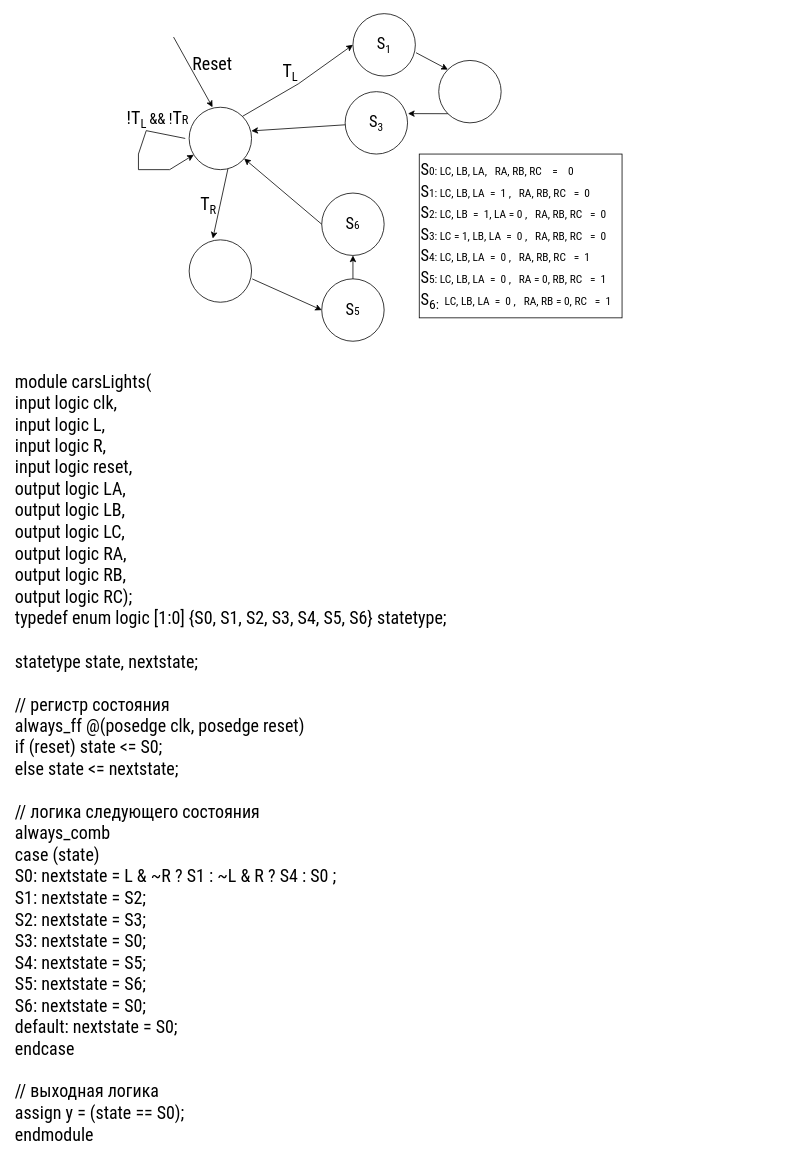
This 799x1174 diagram has some shape labels left out. Here are the shapes that lost their labels. From the top down, the centre of each, then its label:
point 469,91: S 2
point 220,138: S 0
point 220,270: S 4
